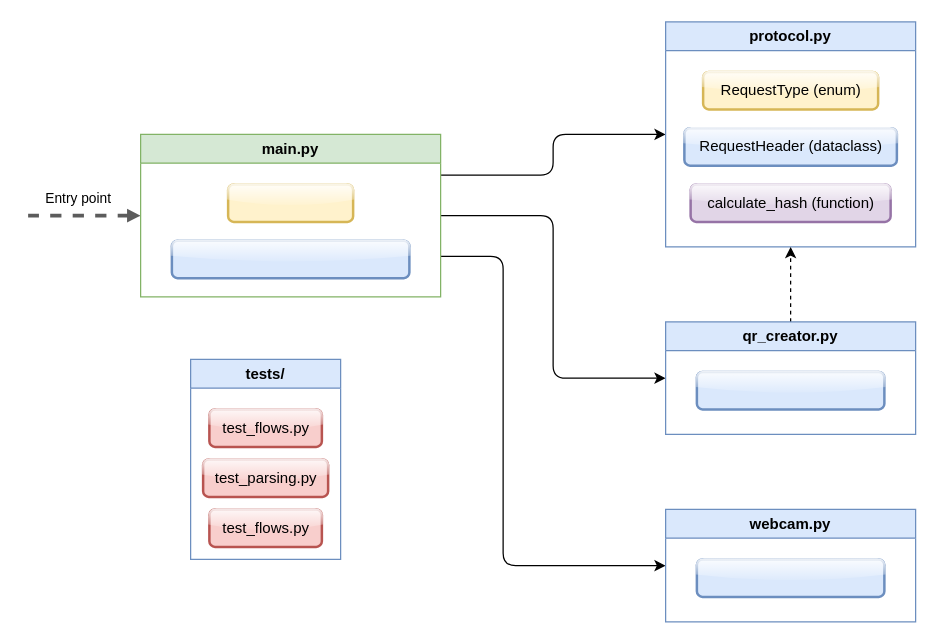
The diagram is 938 pixels wide and 644 high, and some of its shapes have lost their labels. The shapes that lost their labels are listed below. From the top down, each one's centre as x and y in pixels, then its label:
the point at 290,202: Status (enum)
the point at 290,259: QRCodeCommunication (class)
the point at 790,390: QRCodeCreator (class)
the point at 790,578: WebcamReader (class)
